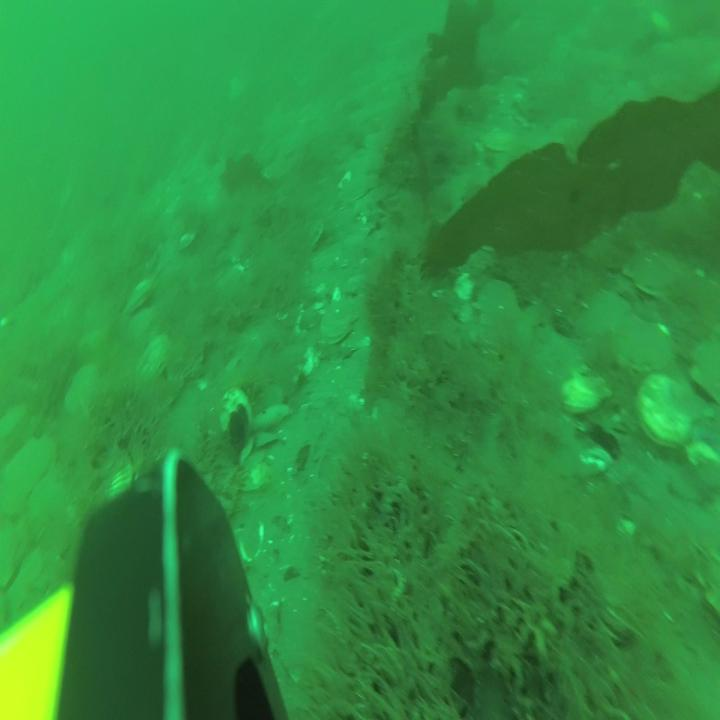scallop: (2, 438, 50, 515), (638, 372, 690, 443), (627, 236, 676, 300), (578, 286, 630, 342), (614, 313, 663, 371), (560, 367, 609, 419), (96, 452, 133, 512), (139, 334, 174, 390), (67, 369, 97, 430), (319, 302, 358, 344), (344, 166, 377, 204), (126, 274, 156, 315)
